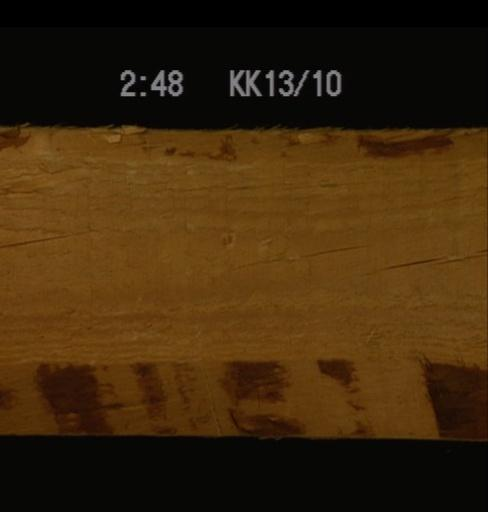split: (226, 238, 364, 265), (0, 220, 118, 251), (370, 247, 484, 274)
wave: (0, 359, 486, 443), (0, 127, 486, 158)
